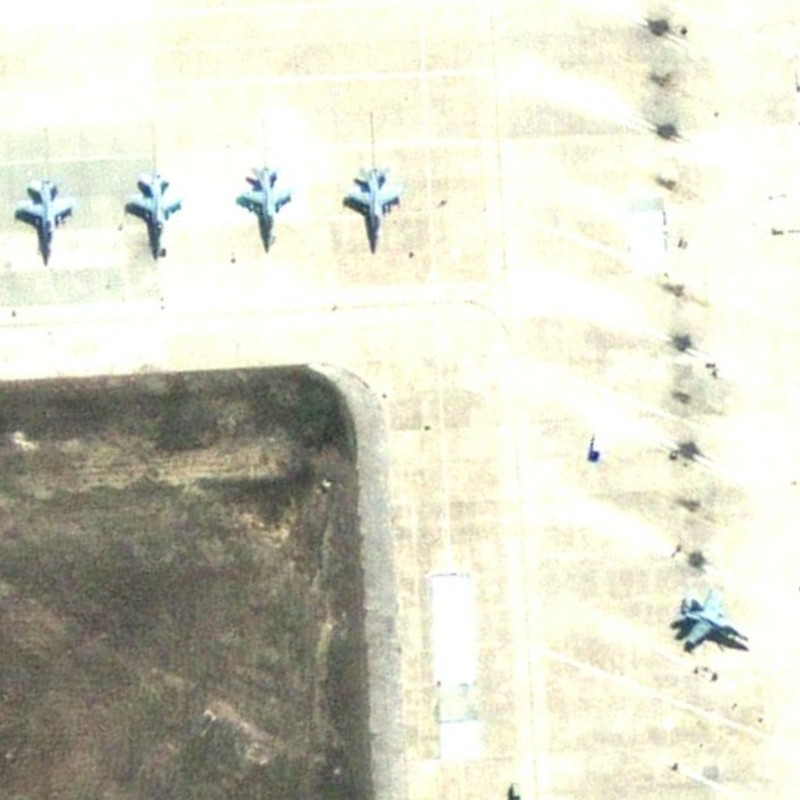A16: (7, 172, 83, 274), (336, 157, 407, 256), (121, 163, 189, 265), (232, 155, 297, 259), (667, 582, 753, 658)
